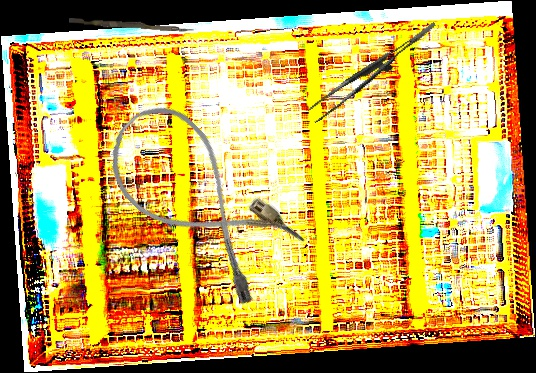Cannula: (88, 88, 311, 312)
Pusher: (68, 17, 195, 33)
Tissue Forceps: (300, 21, 449, 124)
